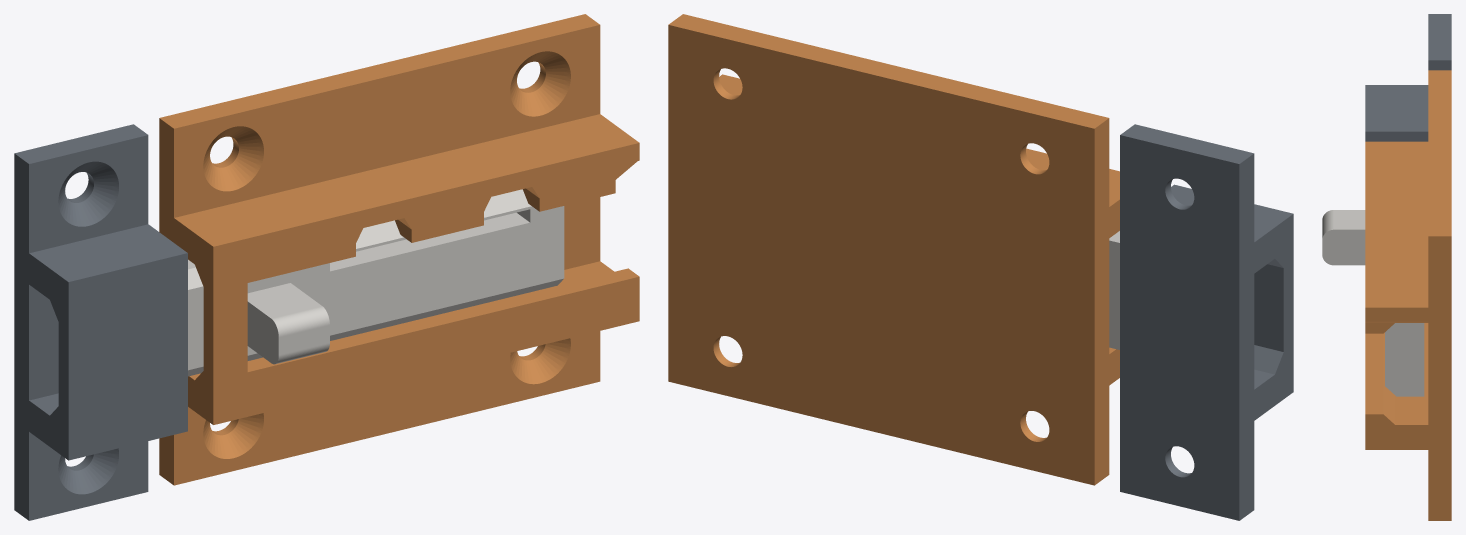
The picture shows the model from 3 angles, left to right: view 1: azimuth 30°, elevation 25°; view 2: azimuth 150°, elevation 25°; view 3: azimuth 270°, elevation 25°; orthographic projection. The views are drawn at different scales.
Parts seen in each view (by area): view 1: guide, gache, pene; view 2: guide, gache, pene; view 3: guide, pene, gache.
Boxes of the visible parts, x1,y1,x2,y2 form: guide: [159, 14, 639, 485]; gache: [14, 124, 187, 520]; pene: [188, 189, 564, 376]; guide: [668, 14, 1119, 485]; gache: [1120, 124, 1293, 520]; pene: [1109, 231, 1119, 349]; guide: [1365, 70, 1451, 520]; pene: [1322, 210, 1424, 396]; gache: [1365, 14, 1451, 141].
Bounding box in the file's own units: 67 × 40 × 16.49.
